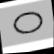no answer: (9, 8, 46, 37)
